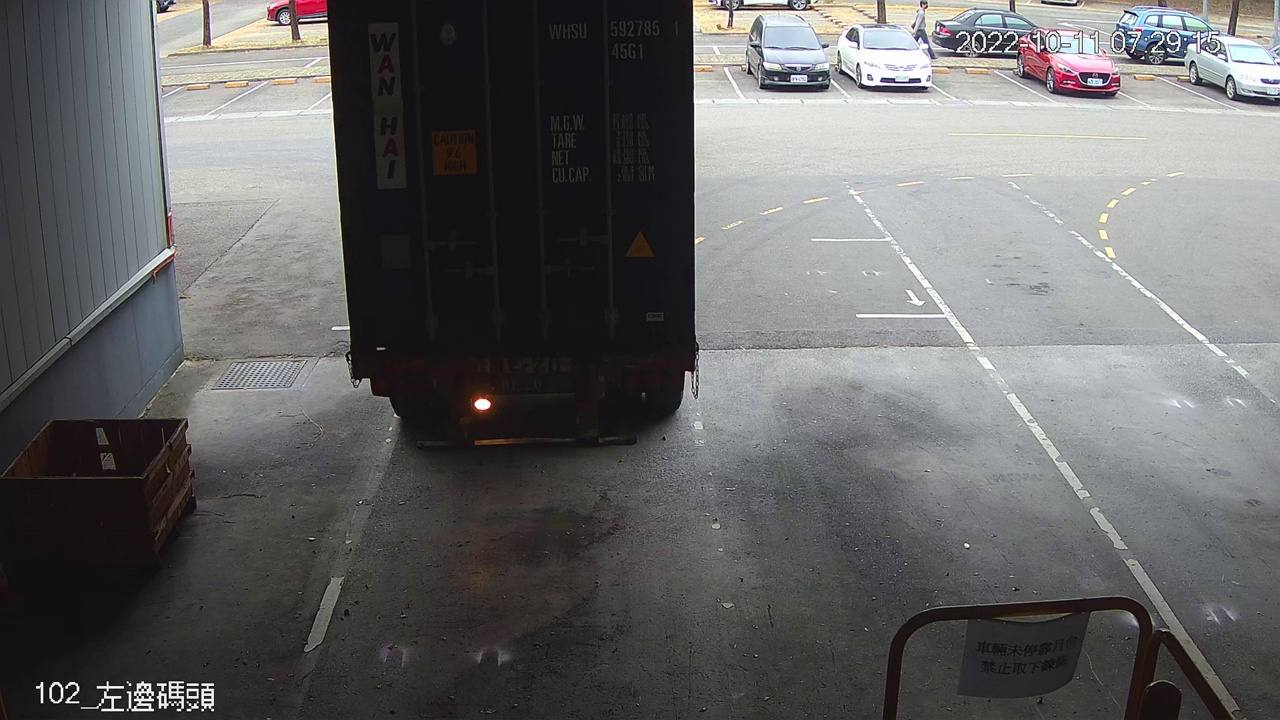container: (542, 12, 683, 65)
